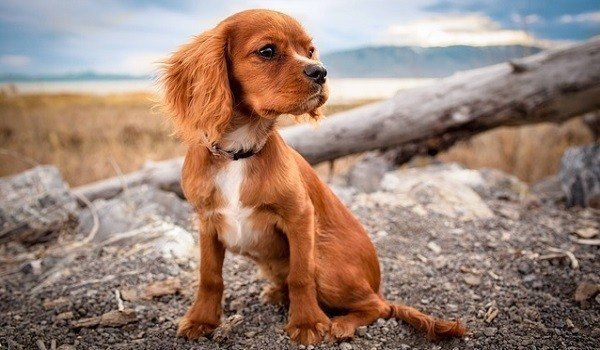dog: (162, 2, 476, 336)
